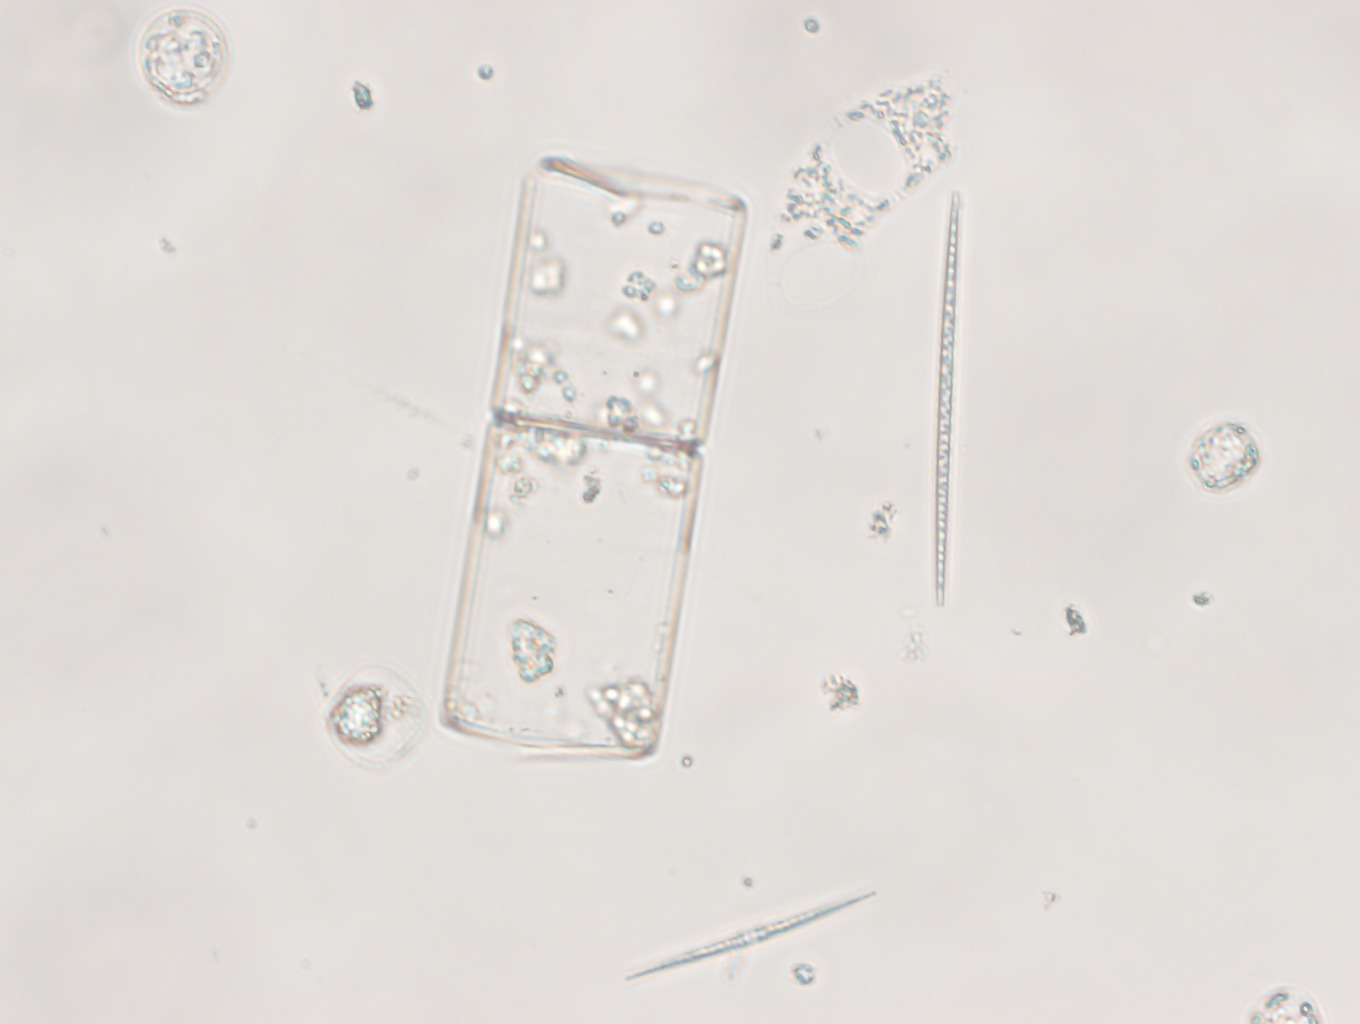eucampia: (768, 72, 955, 259)
guinardia flaccida: (439, 157, 748, 762)
navicula: (625, 888, 878, 986), (934, 189, 960, 609)
